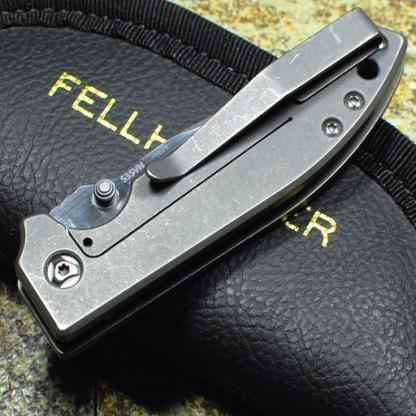knife: (9, 0, 416, 365)
